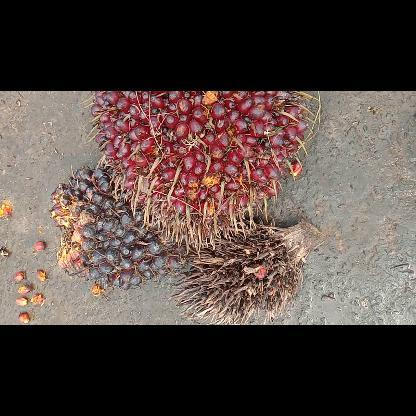Janjang kosong: (168, 216, 324, 324)
TBS masak: (82, 91, 318, 257)
TBS mentah: (48, 166, 192, 290)
